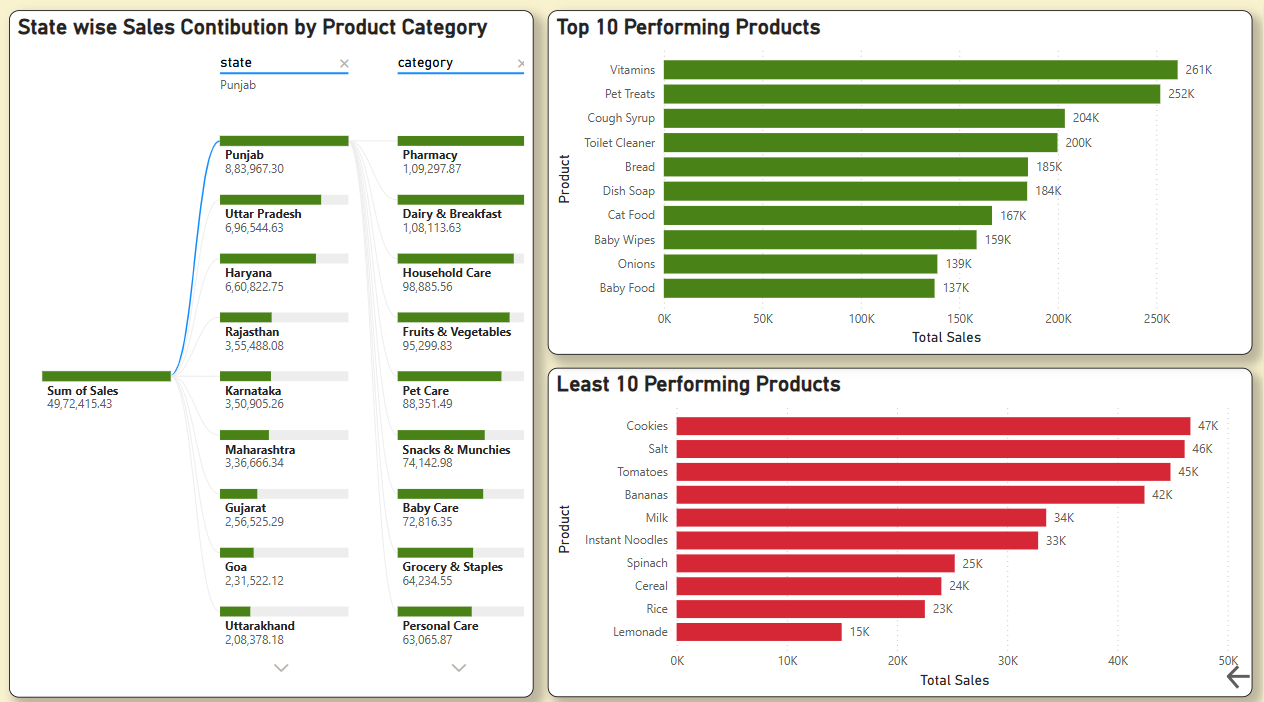

The page's visual inventory and layout, read from the dashboard file:
{"tool":"powerbi","page":{"name":"Page 2","canvas":[1280,720],"ordinal":1},"visuals":[{"type":"decompositionTreeVisual","title":"State wise Sales Contibution by Product Category","fields":{"ExplainBy":["blinkit_orders.state","blinkit_products.category"],"Analyze":["Sum(blinkit_order_items.Sales)"]},"box":[9.6,11,531,695.7],"z":0},{"type":"barChart","title":"Least 10 Performing Products","fields":{"Y":["Sum(blinkit_order_items.Sales)"],"Category":["blinkit_products.product_name"]},"box":[555.7,373.2,713.6,333.4],"z":1000},{"type":"clusteredBarChart","title":"Top 10 Performing Products","fields":{"Category":["blinkit_products.product_name"],"Y":["Sum(blinkit_order_items.Sales)"]},"box":[555.7,11,713.6,348.5],"z":2000},{"type":"actionButton","box":[1239.1,666.9,32.9,39.8],"z":3000}]}

Visuals, with their boxes in screenshot pixels (x1, y1, x2, y2), scaled from the page's 1280x720 canvas onto the 1264x702 screenshot:
"State wise Sales Contibution by Product Category" decompositionTreeVisual: detection(9, 11, 534, 689)
"Least 10 Performing Products" barChart: detection(549, 364, 1253, 689)
"Top 10 Performing Products" clusteredBarChart: detection(549, 11, 1253, 351)
actionButton: detection(1224, 650, 1256, 689)
